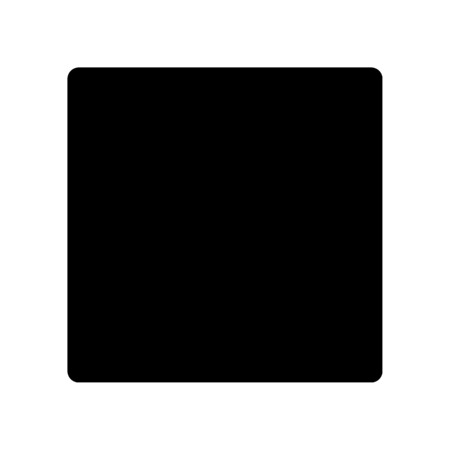cuadrado: (67, 66, 383, 383)
